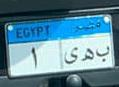1: (28, 40, 42, 70)
ب: (96, 44, 112, 64)
ه: (79, 45, 96, 64)
ي: (62, 44, 79, 67)
